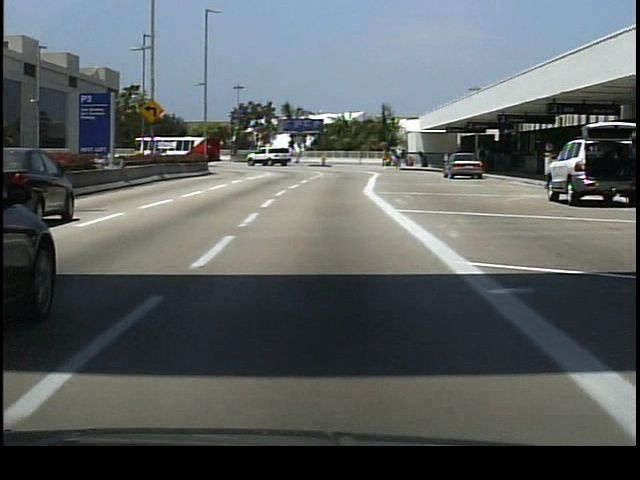person: (476, 149, 492, 180), (394, 146, 404, 174)
